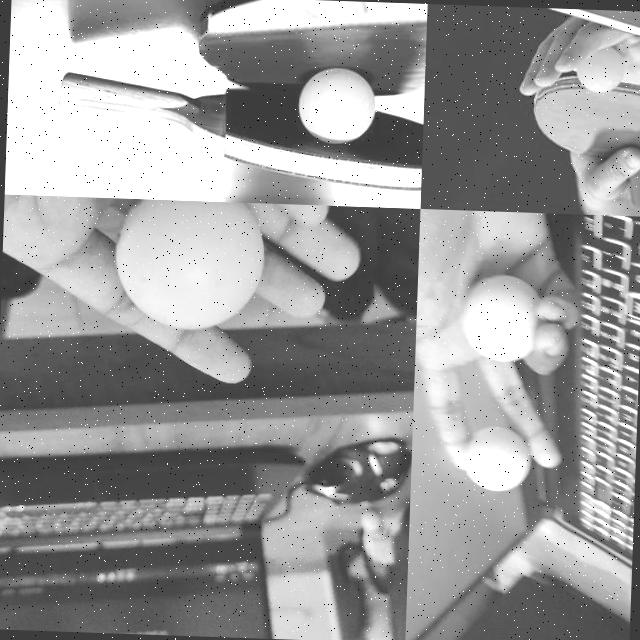ping-pong-ball: (111, 199, 264, 333), (460, 272, 540, 362), (296, 66, 376, 145), (465, 428, 531, 493), (576, 42, 624, 92)
